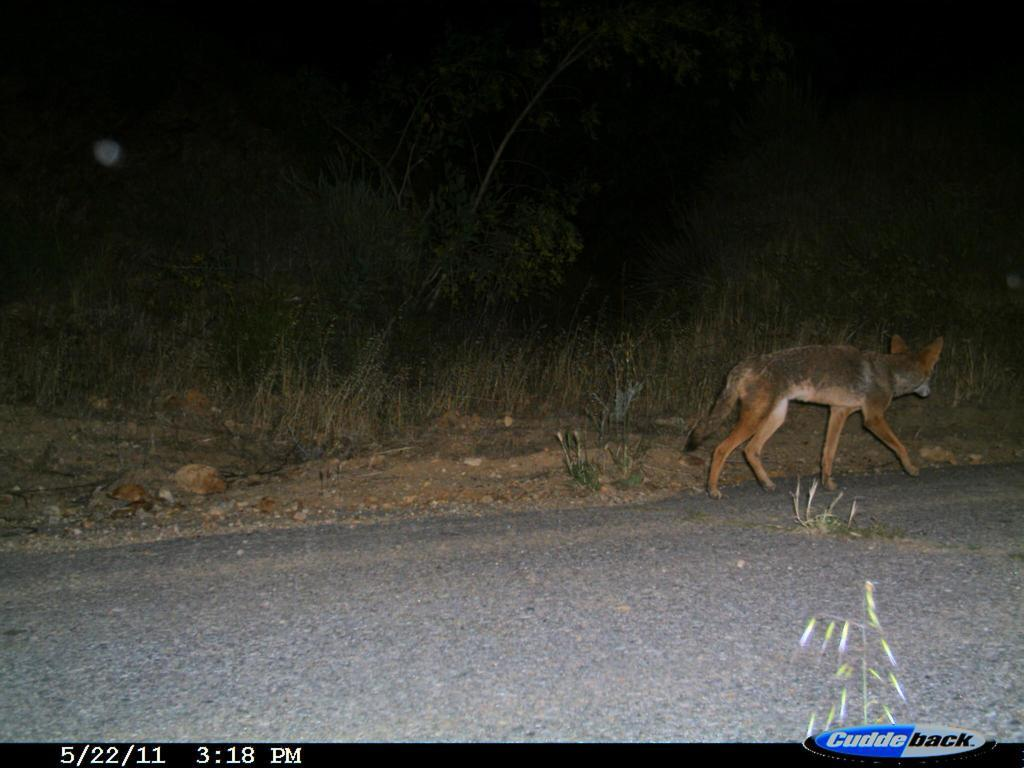coyote: (674, 309, 955, 510)
